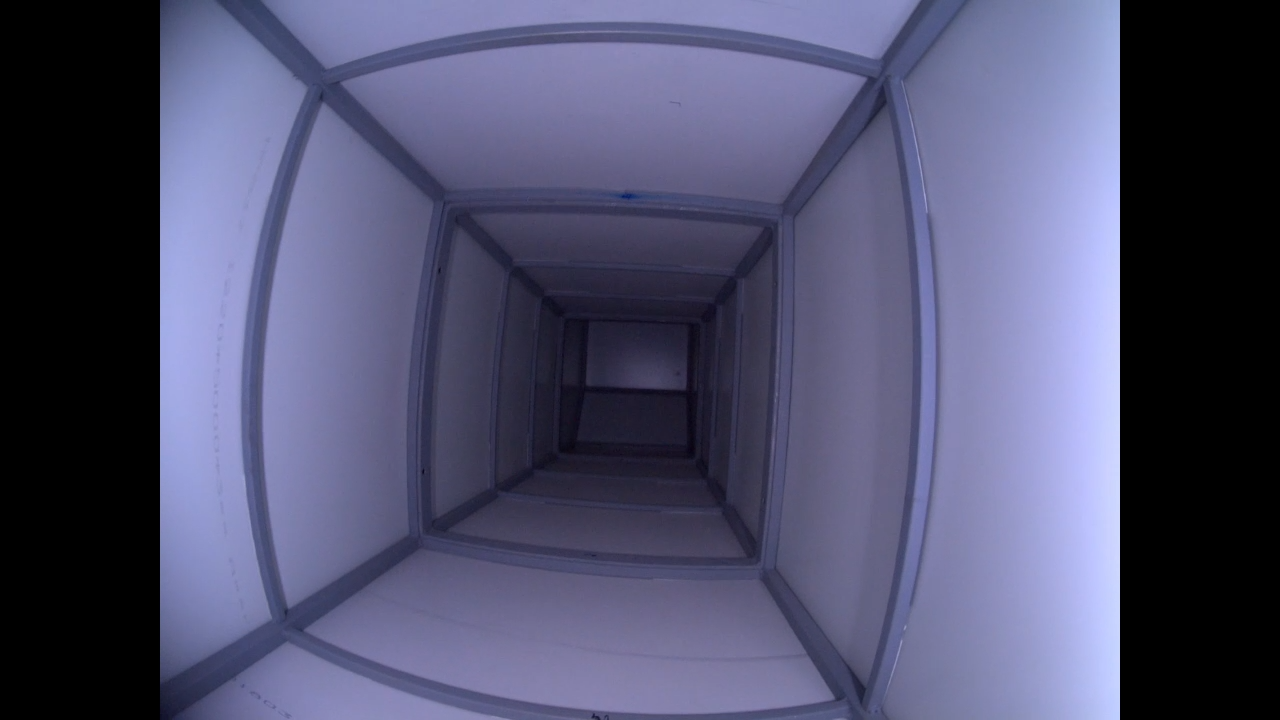divider: (236, 12, 944, 719)
